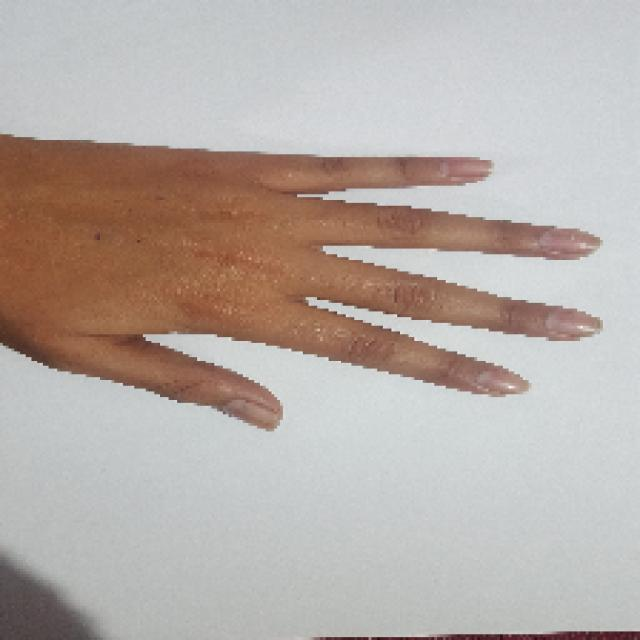Nail: (218, 399, 282, 431), (540, 228, 600, 258), (546, 308, 601, 338), (476, 366, 531, 394), (443, 158, 492, 182)
